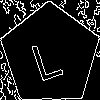L: (25, 30, 65, 82)
